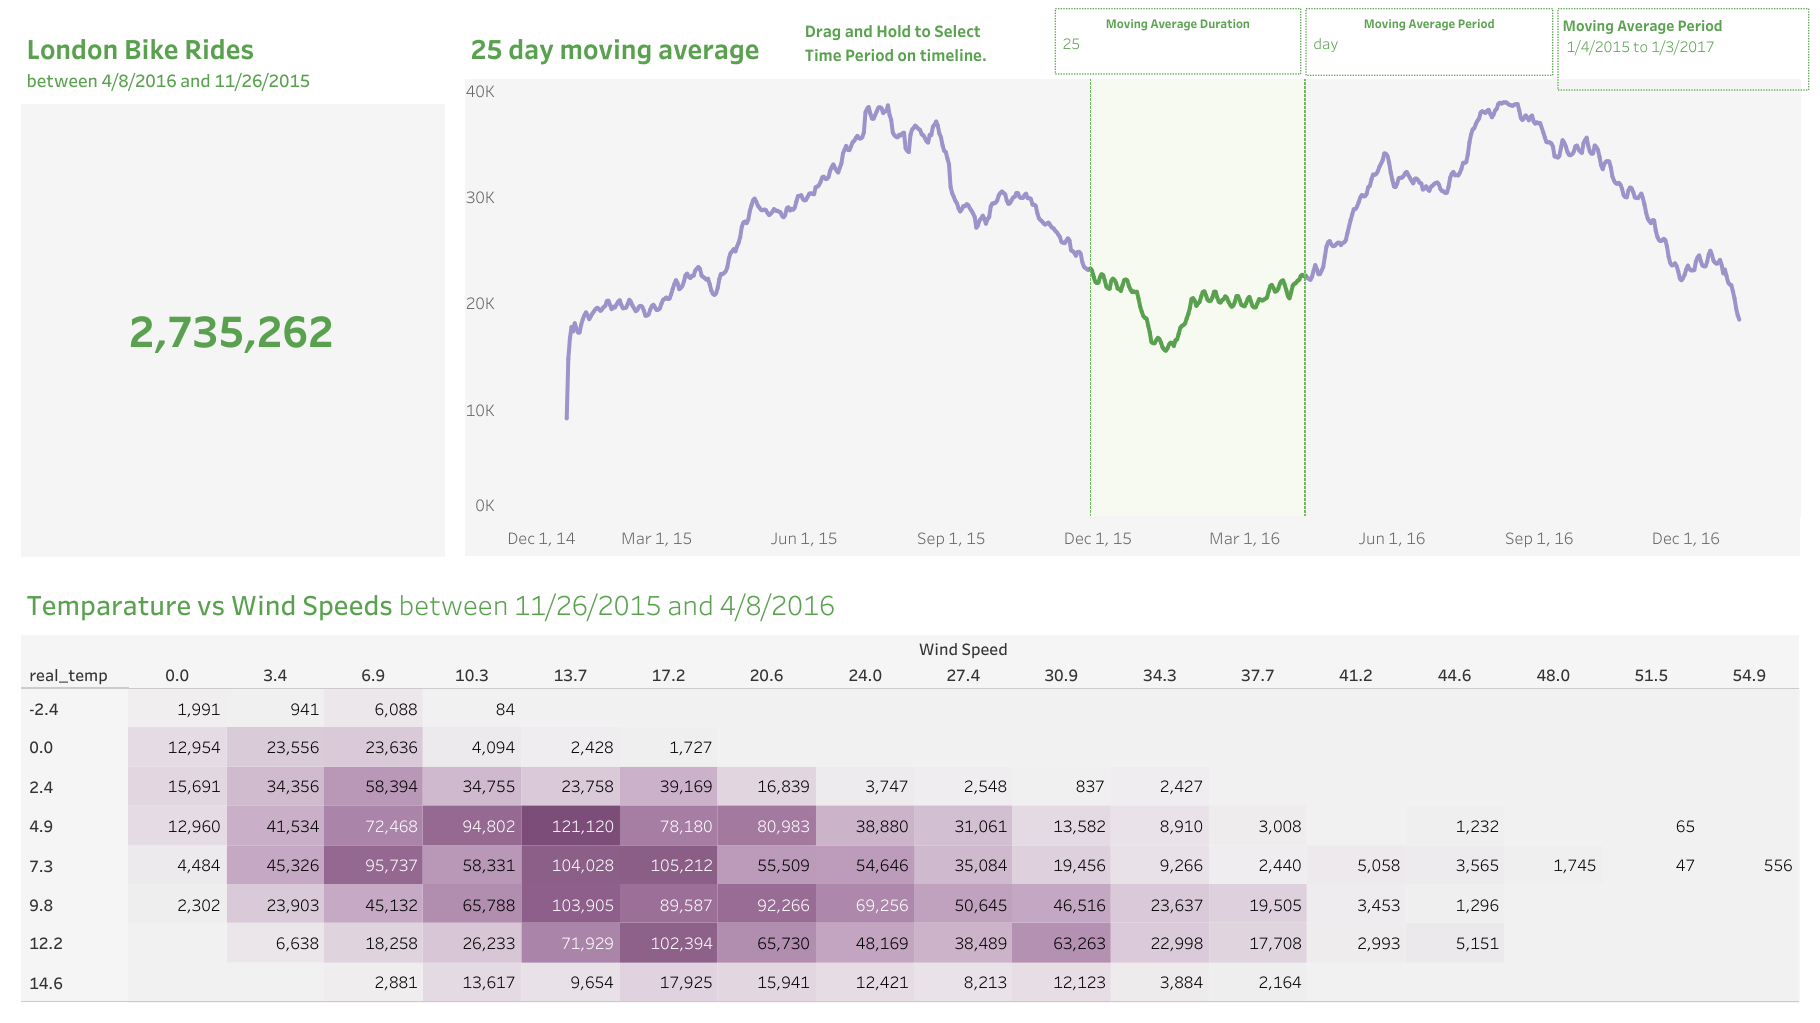

Layout of this report page (visuals, bound fields, positions):
{"tool":"tableau","page":{"name":"Dashboard 1","canvas":[1366,768],"ordinal":0},"visuals":[{"type":"parameter","param":"[Parameters].[Parameter 2]","box":[791,6,185,50]},{"type":"parameter","param":"[Parameters].[Parameter 1]","box":[979,6,186,51]},{"type":"filter","title":"Moving Average","param":"[federated.048knm81ssx9n917jvv9i1vopq79].[none:Calculation_1613133153569644544:q","box":[1168,6,189,62]},{"type":"worksheet","title":"Total Rides","mark":"Automatic","box":[8,8,332.9,417]},{"type":"worksheet","title":"Moving Average","mark":"Automatic","rows":["Calculation1"],"cols":["Calculation_1613133153569644544"],"box":[341,8,1017,417]},{"type":"text","box":[601,9,172,45]},{"type":"worksheet","title":"Heatmap Sheet","mark":"Square","rows":["real temp in C (bin)"],"cols":["Wind Speed Kph (bin)"],"box":[8,425,1350,335]}]}

Visuals, with their boxes in screenshot pixels (x1, y1, x2, y2), scaled from the page's 1366x768 canvas onto the 1820x1023 screenshot:
parameter: {"left": 1054, "top": 8, "right": 1300, "bottom": 75}
parameter: {"left": 1304, "top": 8, "right": 1552, "bottom": 76}
"Moving Average" filter: {"left": 1556, "top": 8, "right": 1808, "bottom": 91}
"Total Rides" worksheet: {"left": 11, "top": 11, "right": 454, "bottom": 566}
"Moving Average" worksheet: {"left": 454, "top": 11, "right": 1809, "bottom": 566}
text: {"left": 801, "top": 12, "right": 1030, "bottom": 72}
"Heatmap Sheet" worksheet (Square marks): {"left": 11, "top": 566, "right": 1809, "bottom": 1012}
